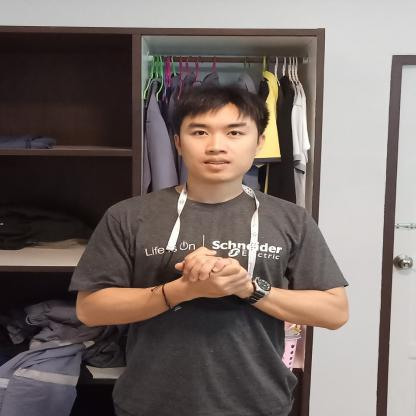Sick: (142, 245, 321, 322)
